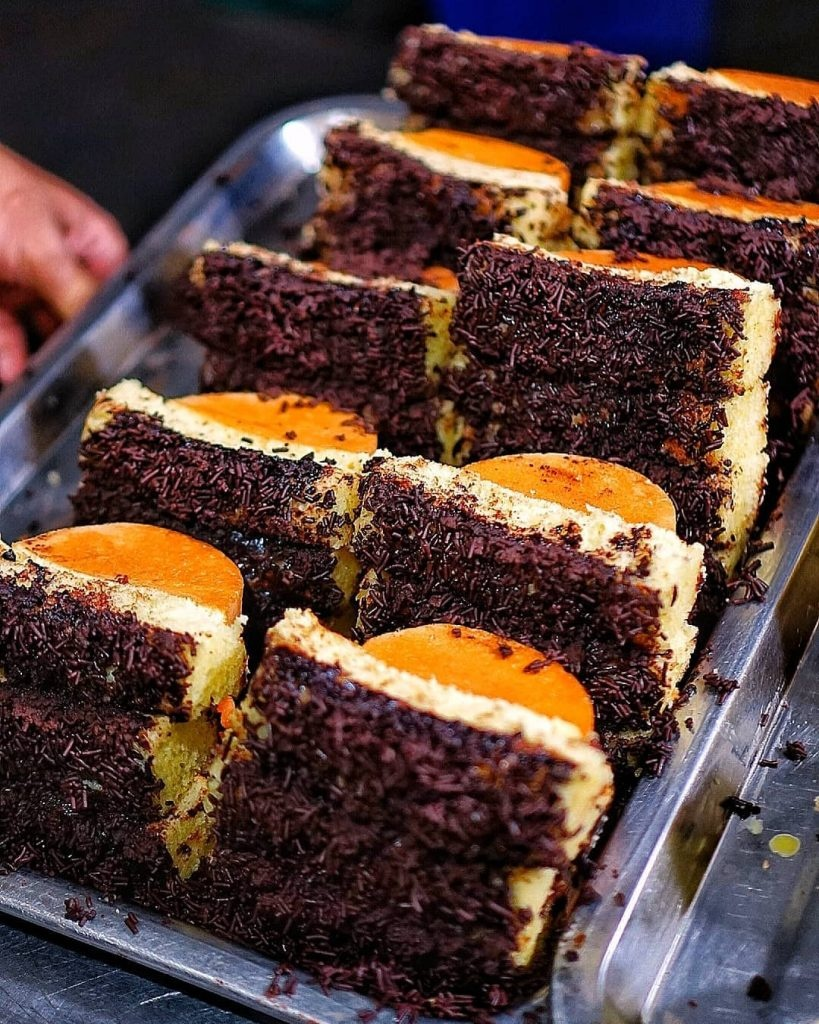pukis: (256, 597, 646, 853)
